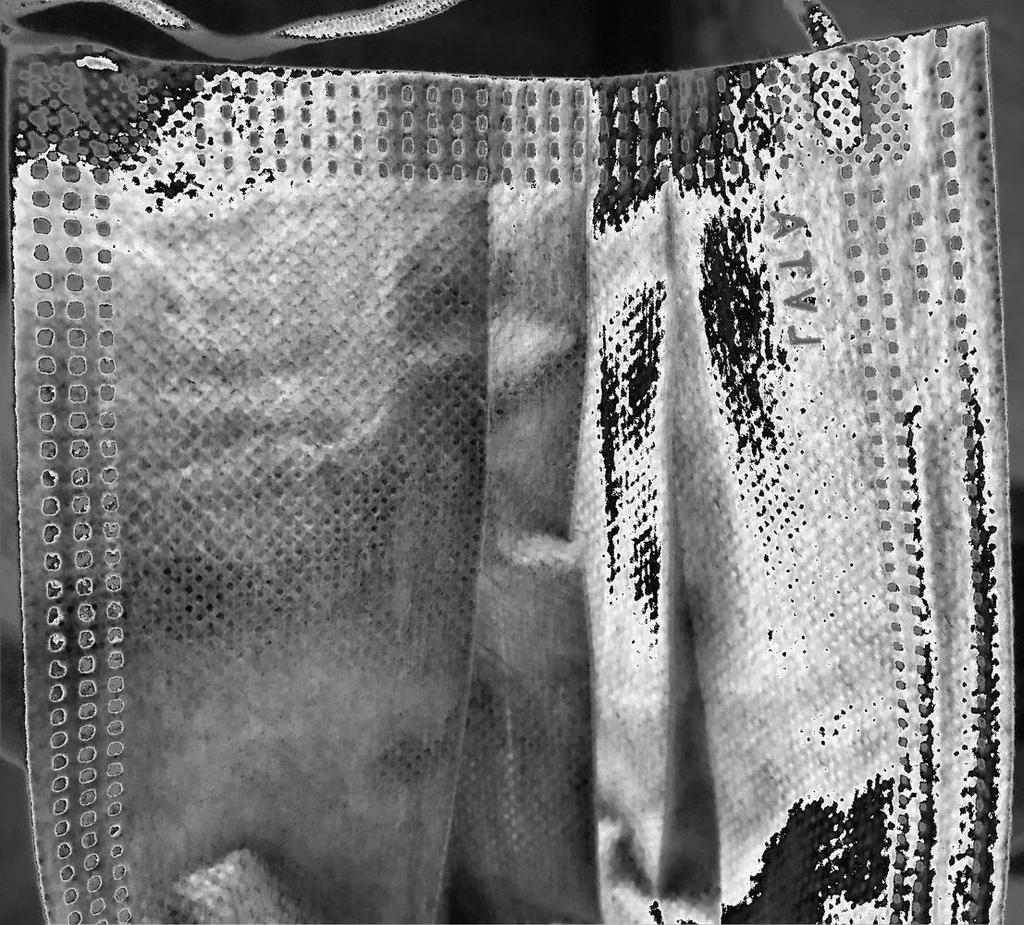High GSM: (6, 33, 1020, 925)
